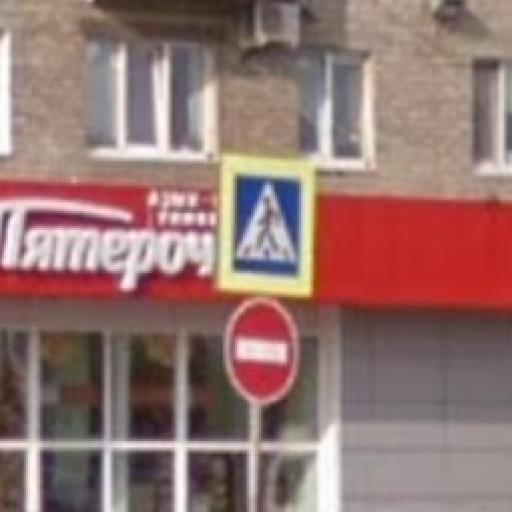traffic_sign: (216, 154, 318, 300), (226, 296, 302, 405)
